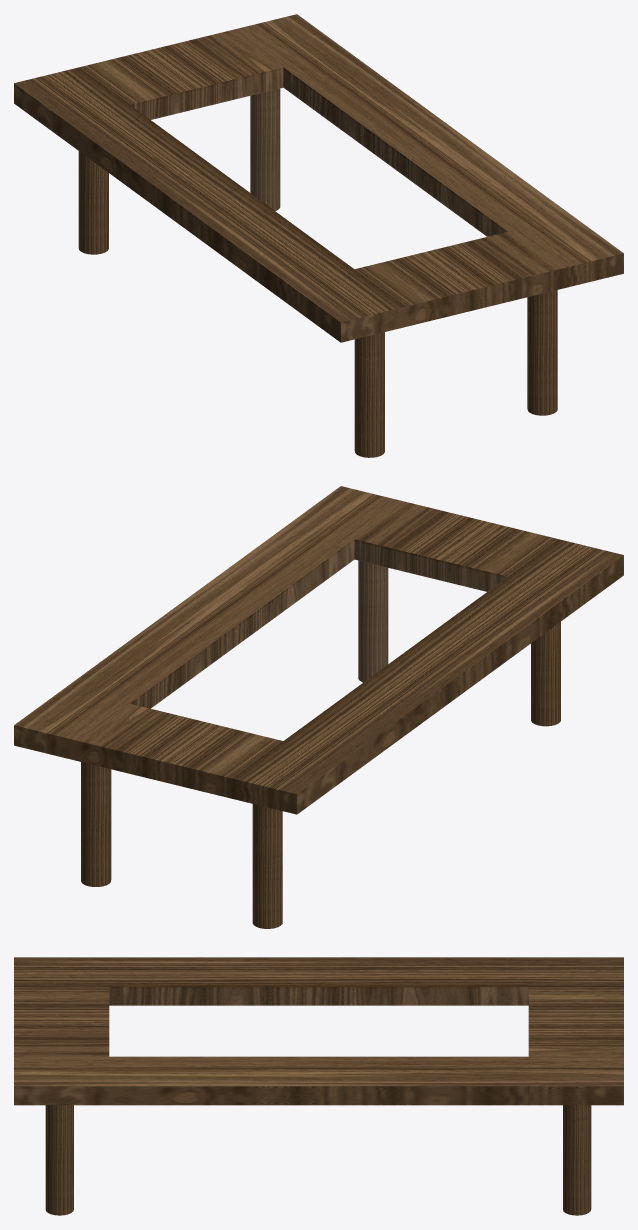
File: mesa_de_centro_-_coffee_table.glb
The picture shows the model from 3 angles, top to bottom: view 1: azimuth 30°, elevation 25°; view 2: azimuth 150°, elevation 25°; view 3: azimuth 270°, elevation 25°; orthographic projection. The views are drawn at different scales.
Parts seen in each view (by area): view 1: Object_3; view 2: Object_3; view 3: Object_3.
Part boxes in pixels (x1,y1,x2,y2): Object_3: (14,14,623,457); Object_3: (14,486,623,928); Object_3: (14,957,623,1215).
Bounding box in the file's own units: 1 × 0.54 × 2.
2 materials, 1 textured.
